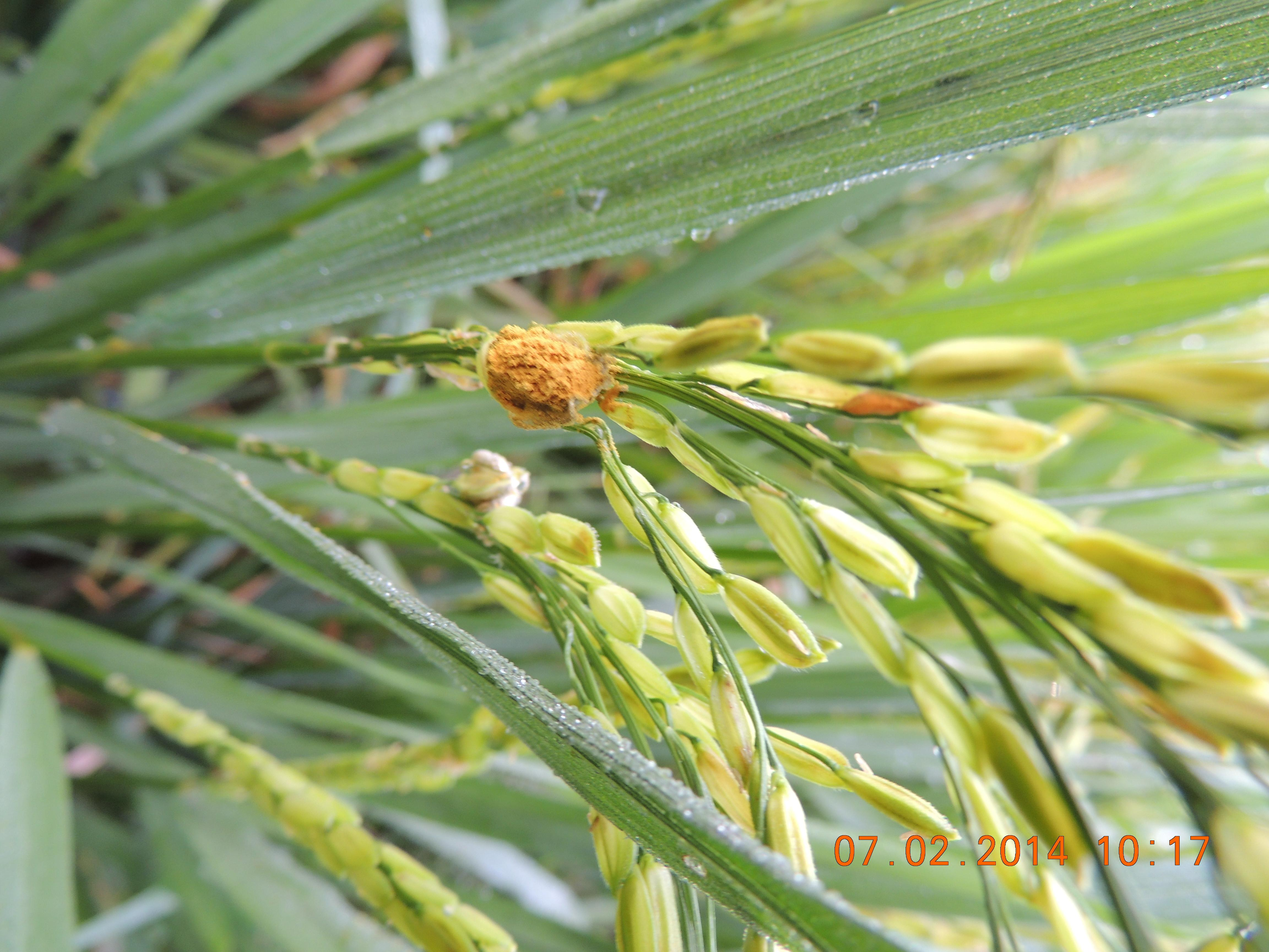False Smut: (471, 306, 647, 438), (432, 452, 592, 537)
